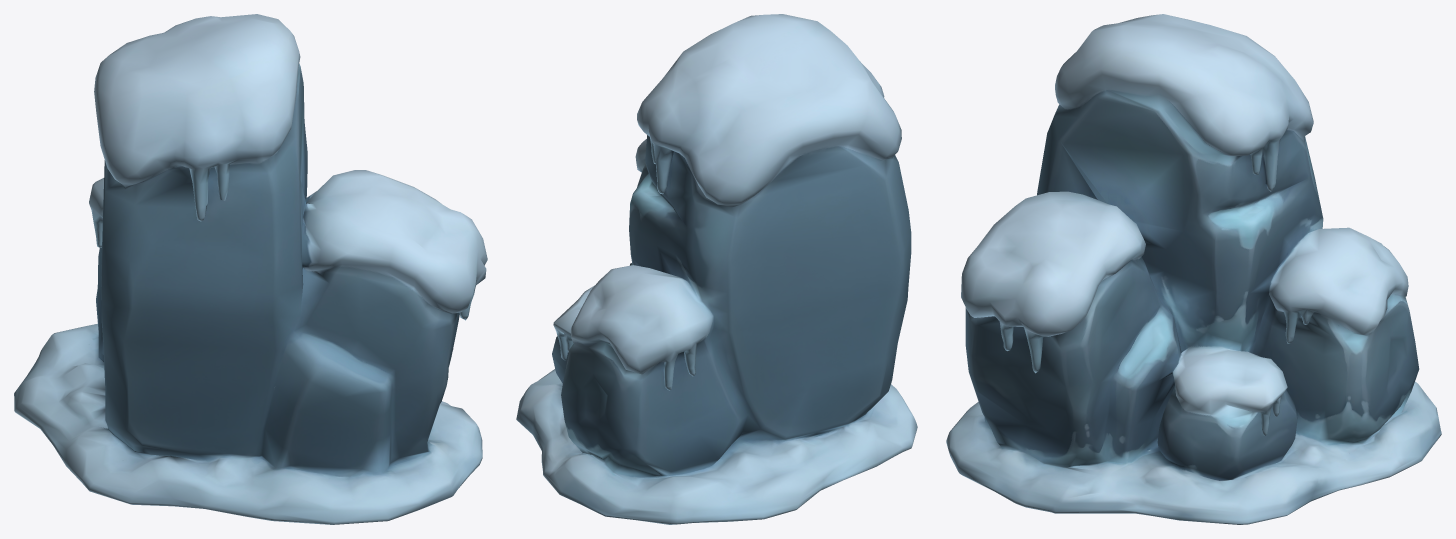
File: frozen_rocks.glb
3 views of the same model, side by side, from view 1: azimuth 30°, elevation 25°; view 2: azimuth 150°, elevation 25°; view 3: azimuth 270°, elevation 25° (orthographic). The views are drawn at different scales.
Parts seen in each view (by area): view 1: SkyRally_prop_snow_frozen_rocks; view 2: SkyRally_prop_snow_frozen_rocks; view 3: SkyRally_prop_snow_frozen_rocks.
Part boxes in pixels (bbox=[...]): SkyRally_prop_snow_frozen_rocks: bbox=[14, 14, 487, 524]; SkyRally_prop_snow_frozen_rocks: bbox=[516, 14, 917, 524]; SkyRally_prop_snow_frozen_rocks: bbox=[946, 14, 1441, 524].
Size of the model in its own units: 9.24 by 10 by 11.38.
1 material, 1 textured.
